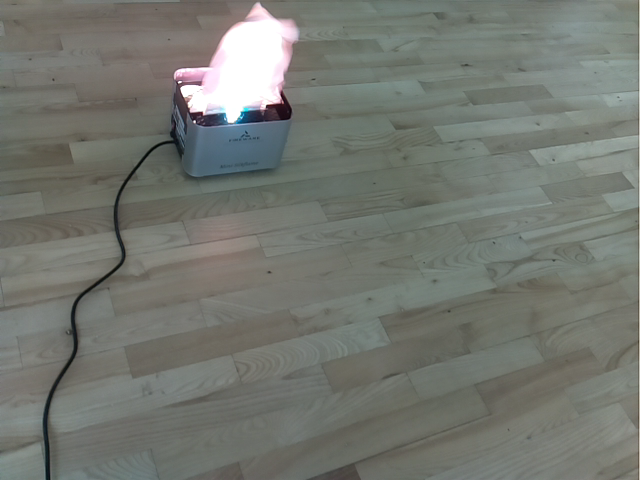fire: (189, 2, 299, 116)
